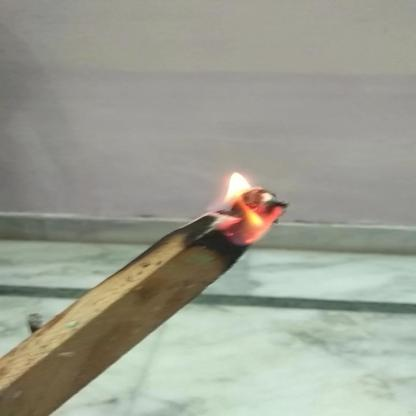fire: (204, 163, 288, 247)
